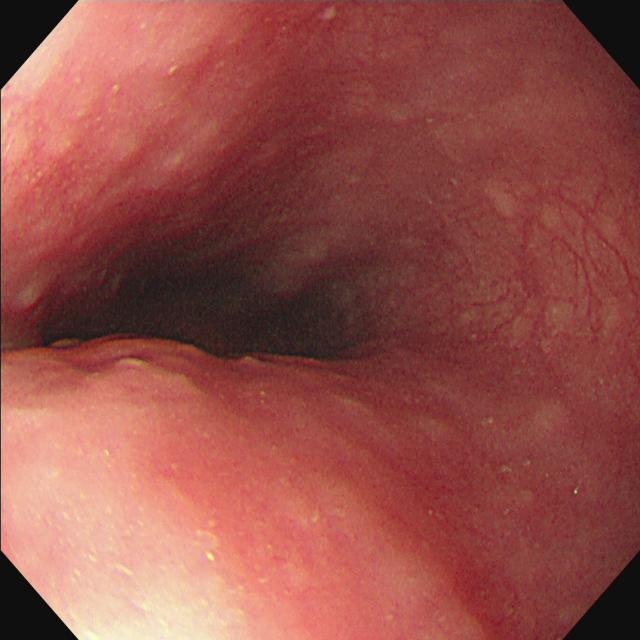E: (30, 256, 366, 375)
